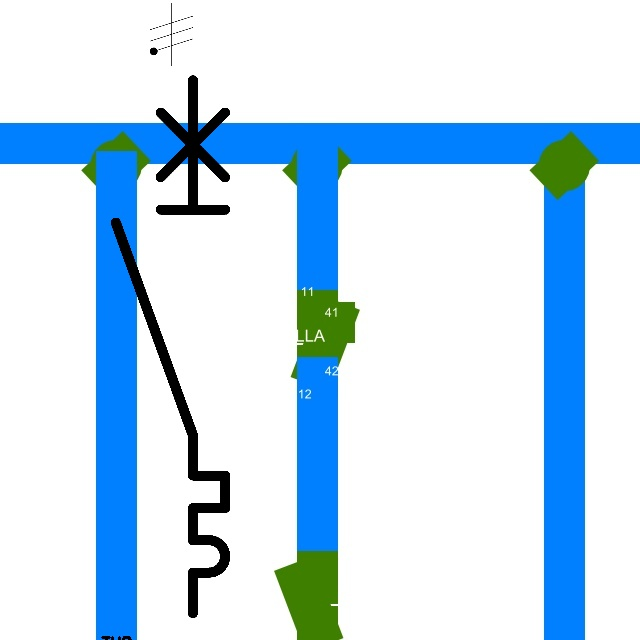interruptor_termomagnetico: (102, 66, 239, 627)
